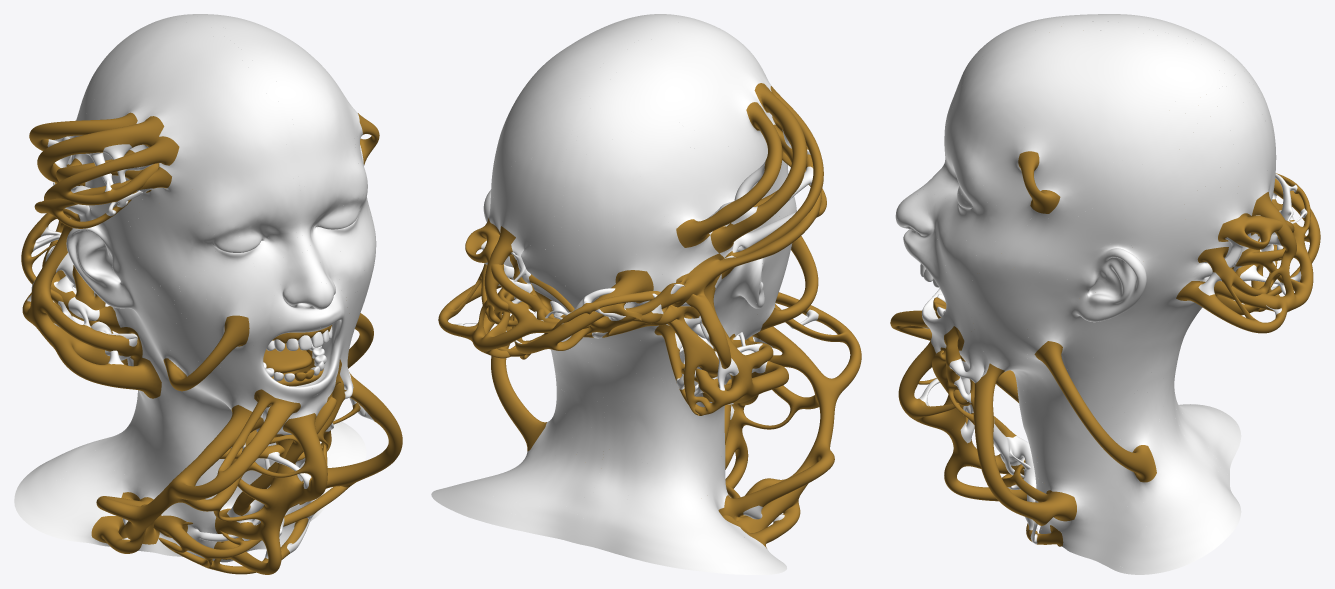
The model's file is ARA1.glb.
3 views of the same model, side by side, from view 1: azimuth 30°, elevation 25°; view 2: azimuth 150°, elevation 25°; view 3: azimuth 270°, elevation 25° (orthographic).
Visible parts, largest first — view 1: Group1 (×15), Group3 (×11), Group8 (×6), Group75 (×3), Group15 (×4), Group4 (×3), ZBrush_defualt_group (×2), Group18 (×2), Group65 (×2), Group5 (×2), Group2 (×4), Group10 (+10 smaller); view 2: Group1 (×16), Group3 (×10), Group15 (×2), Group13 (×4), ZBrush_defualt_group (×2), Group4 (×4), Group86, Group8 (×2), Group65 (×2), Group73, Group7, Group12 (+13 smaller); view 3: Group1 (×18), Group3 (×11), Group8 (×2), Group13 (×2), Group2 (×5), Group5 (×2), Group12, Group75 (×2), Group9, Group24, Group6, Group73 (+8 smaller).
Boxes of the visible parts, x1,y1,x2,y2 form: Group1 (×15): (73, 14, 376, 433); Group3 (×11): (14, 390, 366, 562); Group8 (×6): (96, 372, 402, 574); Group75 (×3): (158, 398, 327, 574); Group15 (×4): (91, 392, 336, 553); Group4 (×3): (21, 213, 142, 365); ZBrush_defualt_group (×2): (37, 116, 164, 207); Group18 (×2): (42, 223, 161, 398); Group65 (×2): (44, 136, 179, 221); Group5 (×2): (66, 227, 122, 301); Group2 (×4): (209, 343, 341, 434); Group10: (163, 315, 249, 391); Group1 (×16): (490, 14, 796, 413); Group3 (×10): (431, 397, 786, 574); Group15 (×2): (739, 326, 836, 548); Group13 (×4): (438, 282, 687, 353); ZBrush_defualt_group (×2): (710, 83, 807, 253); Group4 (×4): (682, 278, 773, 415); Group86: (676, 102, 782, 247); Group8 (×2): (724, 304, 847, 518); Group65 (×2): (694, 86, 823, 278); Group73: (515, 270, 653, 353); Group7: (689, 148, 821, 294); Group12: (491, 314, 546, 451); Group1 (×18): (895, 14, 1276, 417); Group3 (×11): (1022, 372, 1241, 574); Group8 (×2): (944, 363, 1076, 521); Group13 (×2): (1176, 209, 1313, 333); Group2 (×5): (981, 308, 1076, 378); Group5 (×2): (1084, 248, 1146, 319); Group12: (1034, 341, 1156, 482); Group75 (×2): (890, 310, 952, 432); Group9: (1018, 151, 1060, 213); Group24: (945, 388, 1025, 475); Group6: (1197, 247, 1277, 296); Group73: (1267, 178, 1320, 295).
Size of the model in its own units: 0.00236 by 0.00334 by 0.00255.
